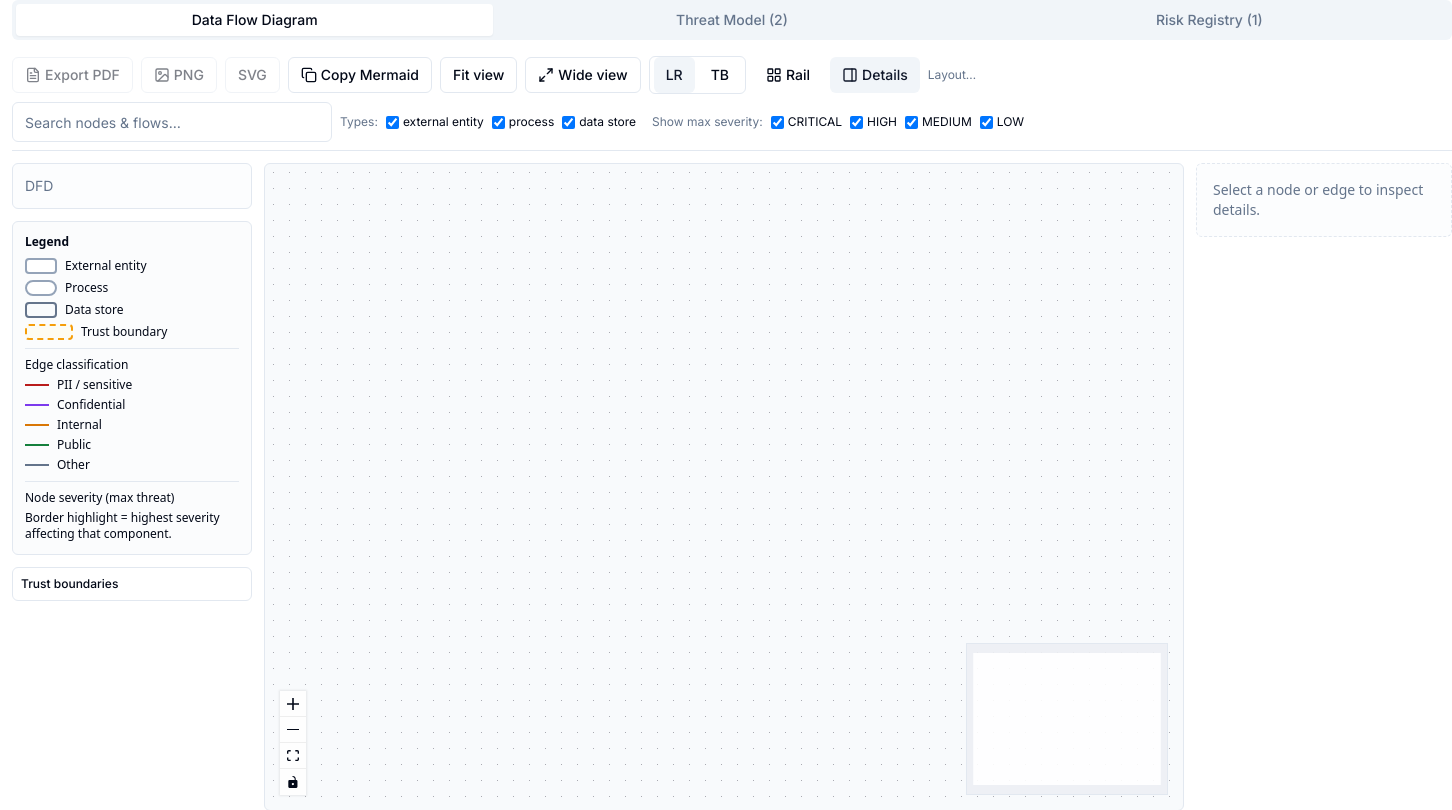
Scenario: <JobReport /> › shows Threat Model not available when threatModel is null
Click the tab "Threat Model (2)" at (732, 20), box [493,4,971,36]
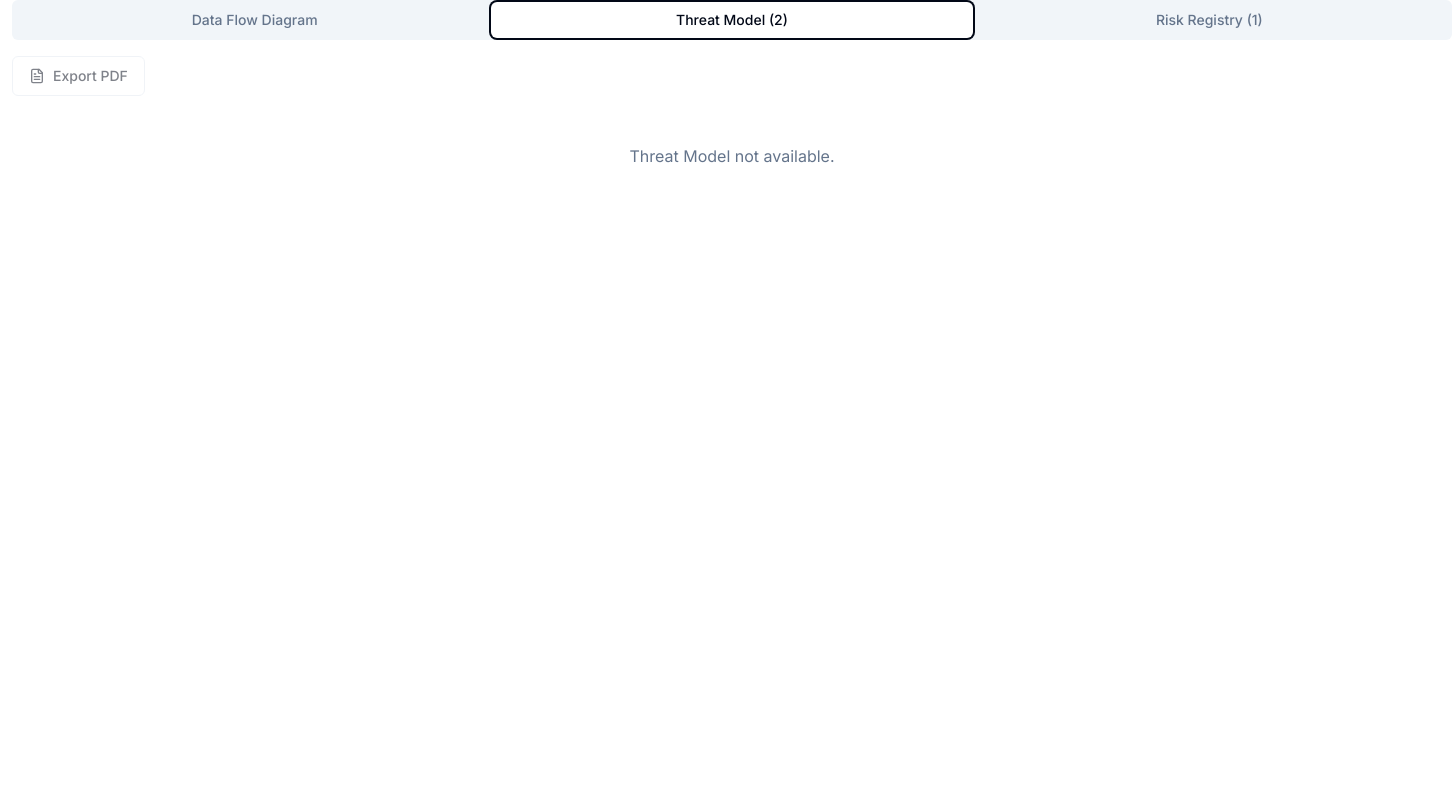
Expected: the text "Threat Model not available." is shown, [630,146,835,166]
